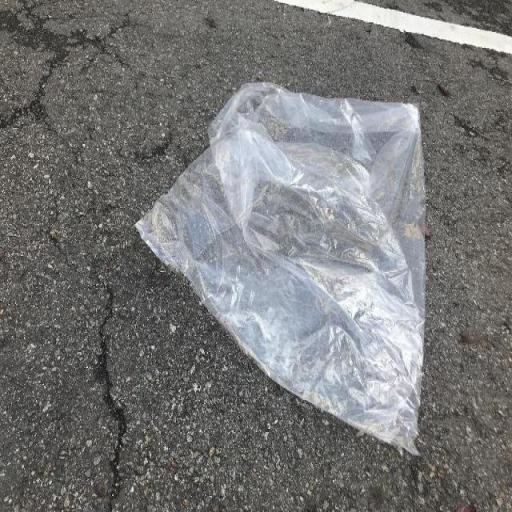plastic-bag: (130, 78, 432, 462)
